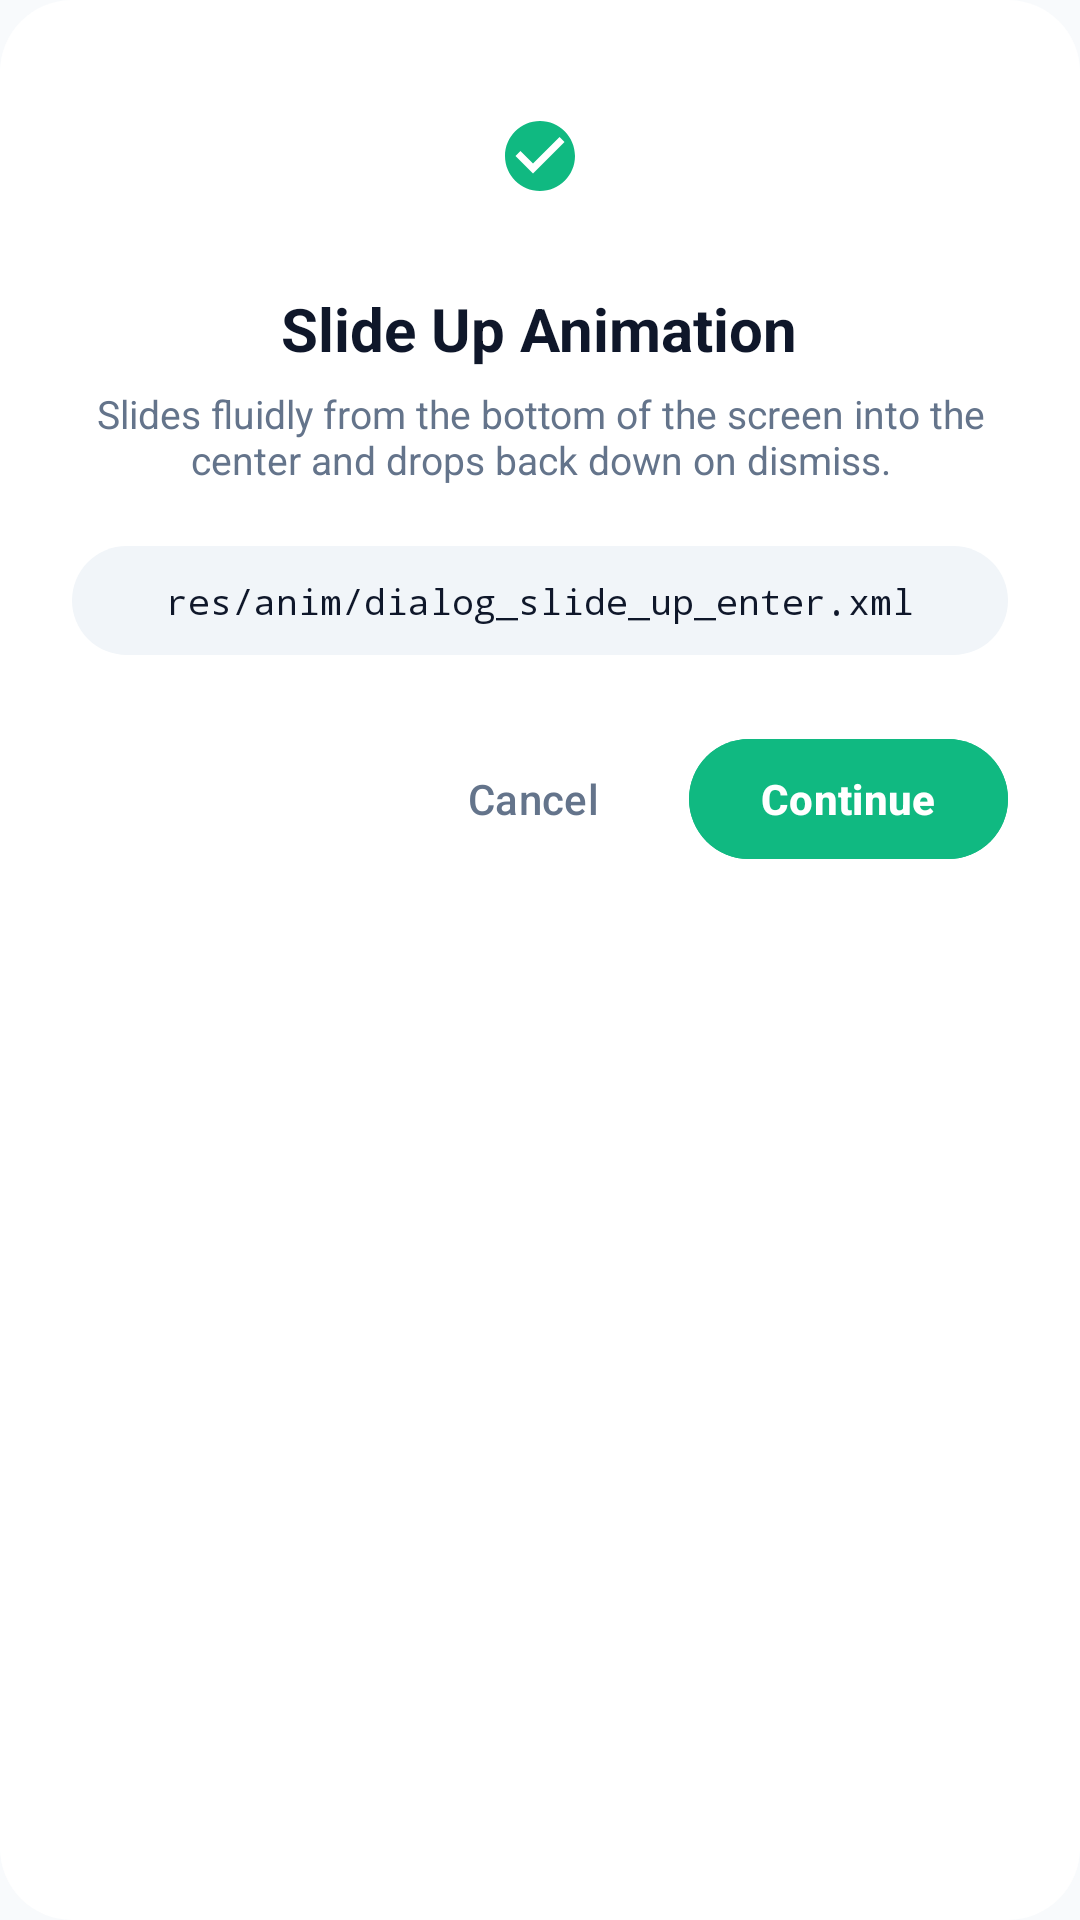

Where to tap for icons on this 1080w x 1920h app screen, as [x,y]:
check circle: [540,156]
